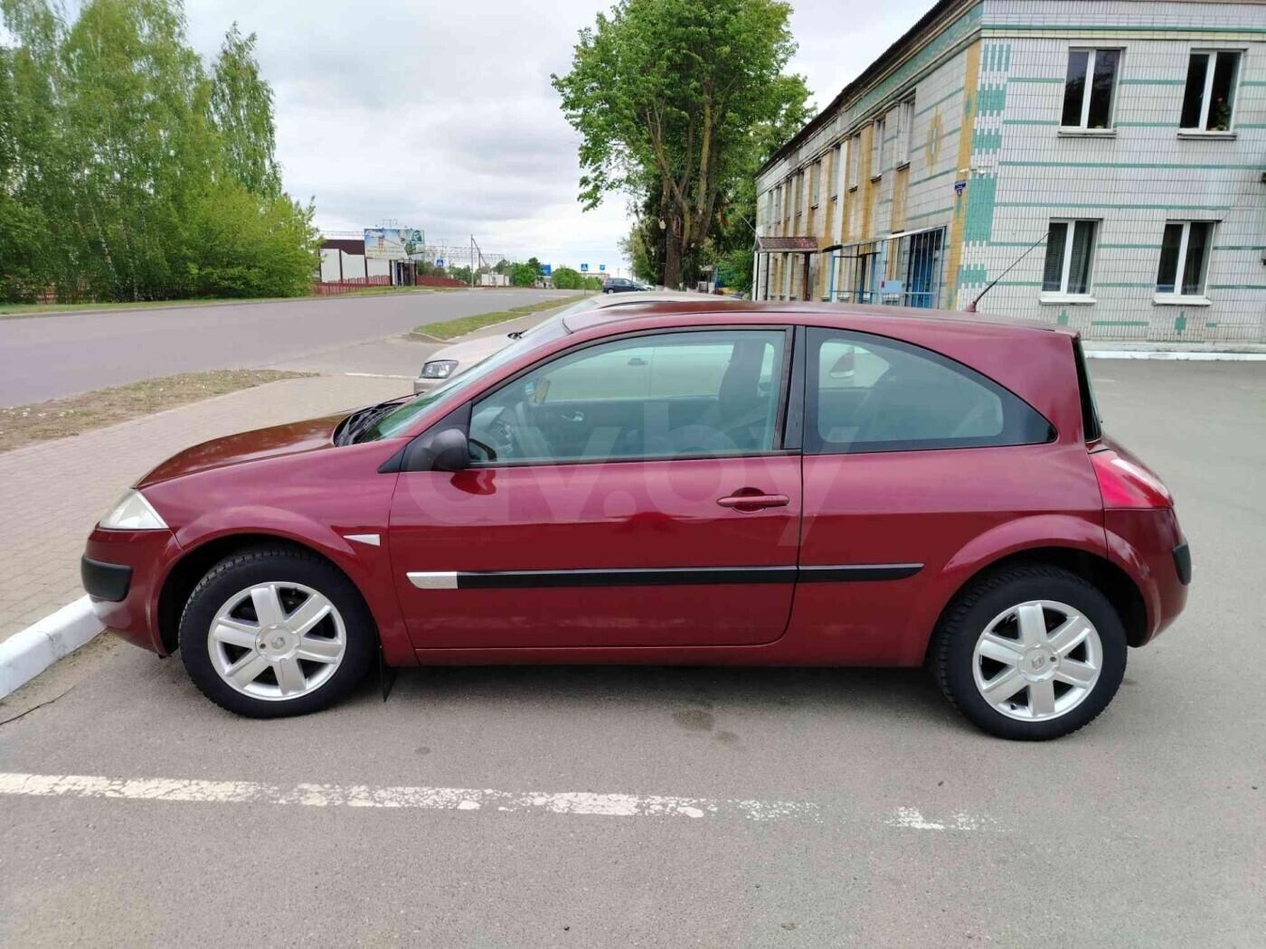Megane_2002-2006: (59, 291, 1194, 757)
